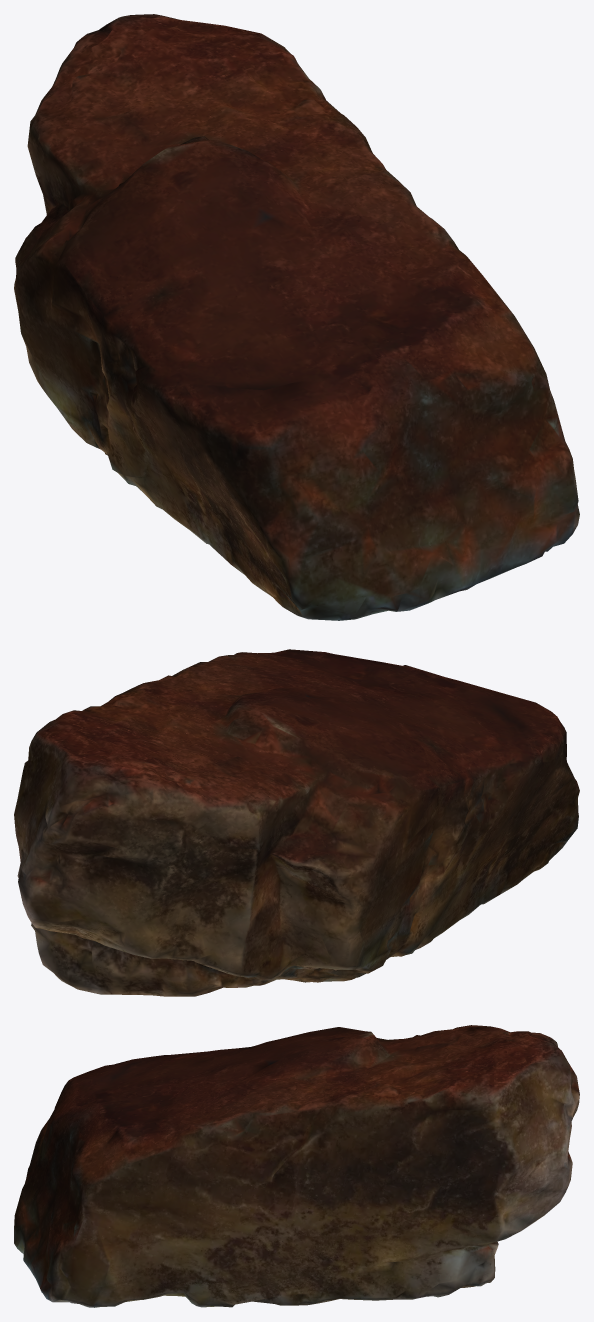
Rendered from rock.glb.
The picture shows the model from 3 angles, top to bottom: view 1: azimuth 30°, elevation 25°; view 2: azimuth 150°, elevation 25°; view 3: azimuth 270°, elevation 25°; orthographic projection. The views are drawn at different scales.
Parts seen in each view (by area): view 1: rock_07; view 2: rock_07; view 3: rock_07.
Boxes of the visible parts, <box> form: rock_07: <box>14,14,579,620</box>; rock_07: <box>14,649,579,996</box>; rock_07: <box>14,1025,579,1307</box>.
Size of the model in its own units: 0.1686 by 0.1437 by 0.3199.
1 material, 1 textured.
